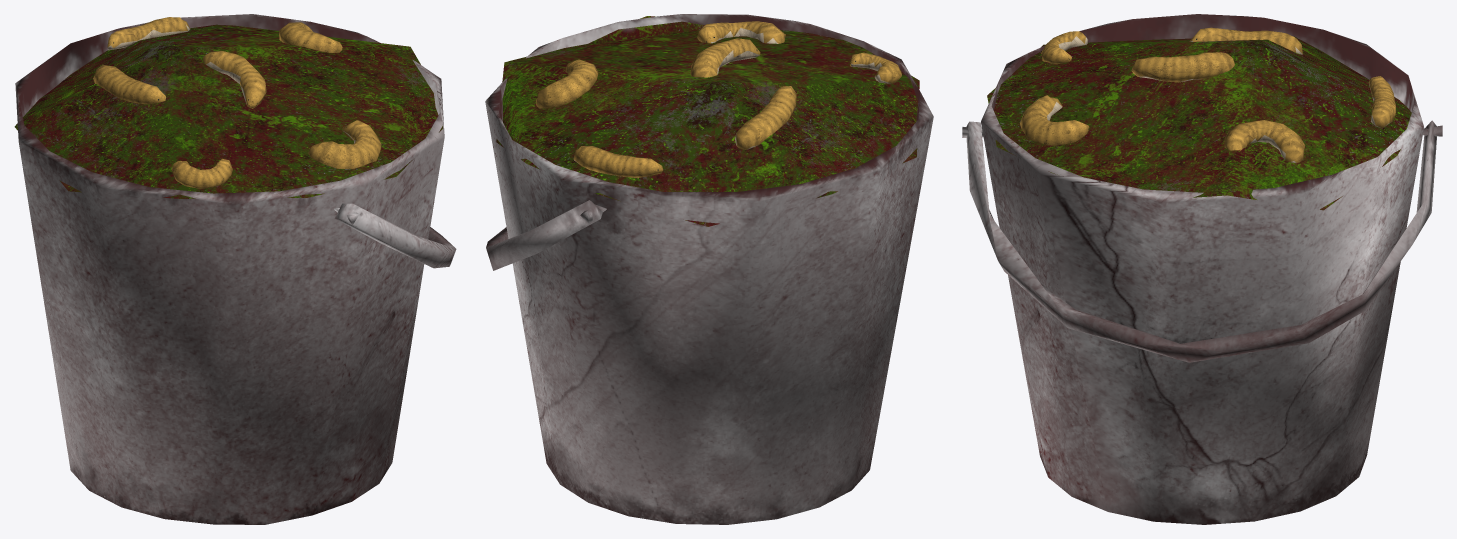
The model's file is WormBucket.fbx.
The picture shows the model from 3 angles, left to right: view 1: azimuth 30°, elevation 25°; view 2: azimuth 150°, elevation 25°; view 3: azimuth 270°, elevation 25°; orthographic projection.
Parts seen in each view (by area): view 1: Bucket, Sand, worm_model1, Handle; view 2: Bucket, Sand, worm_model1, Handle; view 3: Bucket, Sand, Handle, worm_model1.
Part boxes in pixels (bbox=[...]): Bucket: bbox=[15, 14, 444, 524]; Sand: bbox=[14, 24, 442, 198]; worm_model1: bbox=[93, 17, 381, 188]; Handle: bbox=[334, 203, 456, 268]; Bucket: bbox=[485, 14, 933, 524]; Sand: bbox=[496, 16, 919, 226]; worm_model1: bbox=[536, 21, 901, 177]; Handle: bbox=[486, 200, 602, 270]; Bucket: bbox=[962, 14, 1442, 524]; Sand: bbox=[987, 36, 1411, 210]; Handle: bbox=[966, 120, 1436, 362]; worm_model1: bbox=[1020, 27, 1395, 162].
Size of the model in its own units: 44.49 by 44.81 by 48.24.
Materials: 2 (2 with a texture image).
